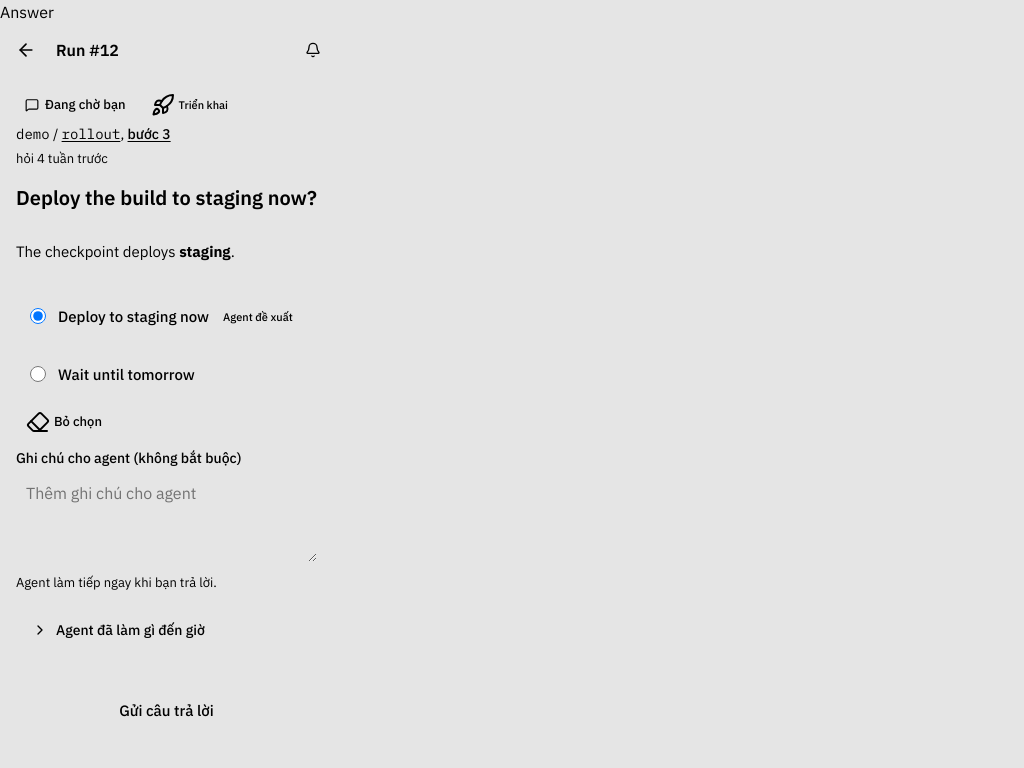
DecisionSheet on a phone, from the Inbox › reads what the agent did only once its fold opens, and lists the last things oldest first
Step 1. Click the heading "Agent đã làm gì đến giờ" → (118, 630), box [32,621,205,639]
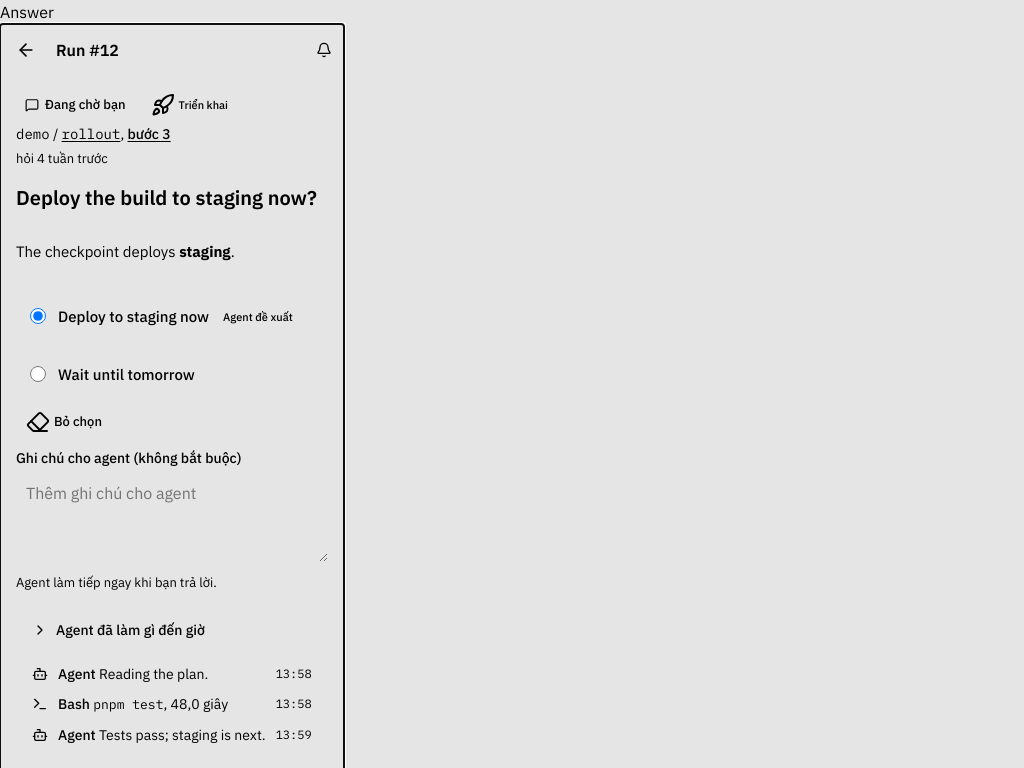
Now the list item with test id "decision-so-far-item" shows "Reading the plan.", box [99,665,208,683]
Now the list item with test id "decision-so-far-item" shows "Bash pnpm test", box [32,694,312,715]
Now the list item with test id "decision-so-far-item" shows "Tests pass; staging is next.", box [99,726,266,744]
